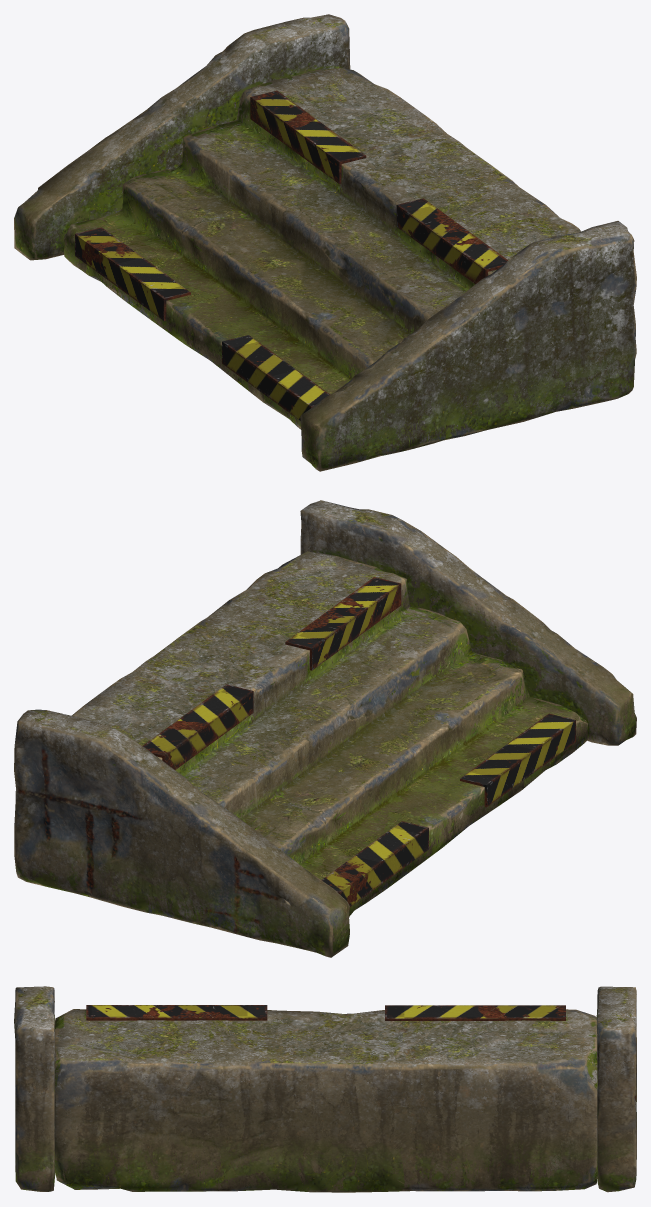
The model's file is Prop_Rock_Stair.fbx.
The picture shows the model from 3 angles, top to bottom: view 1: azimuth 30°, elevation 25°; view 2: azimuth 150°, elevation 25°; view 3: azimuth 270°, elevation 25°; orthographic projection.
Parts seen in each view (by area): view 1: Stair, Stone2, Stone; view 2: Stair, Stone, Stone2; view 3: Stair, Stone2, Stone.
Part boxes in pixels (left/top/right/bottom): Stair: left=63, top=68, right=580, bottom=429; Stone2: left=300, top=221, right=636, bottom=471; Stone: left=14, top=14, right=350, bottom=260; Stair: left=71, top=551, right=587, bottom=916; Stone: left=14, top=709, right=349, bottom=957; Stone2: left=300, top=500, right=636, bottom=745; Stair: left=54, top=1005, right=597, bottom=1192; Stone2: left=14, top=986, right=54, bottom=1191; Stone: left=596, top=986, right=636, bottom=1192.
Bounding box in the file's own units: 71.58 × 35.07 × 119.
